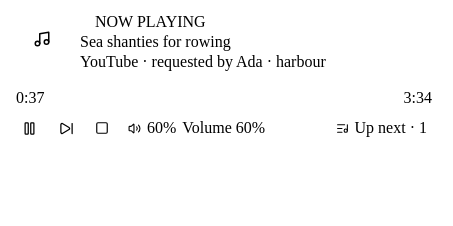
Test: NowPlaying › the queue toggle says how many are up next and opens the queue list (current track marked)
Step 1. Click the button "Up next · 1" → (381,128), box [327,114,436,142]
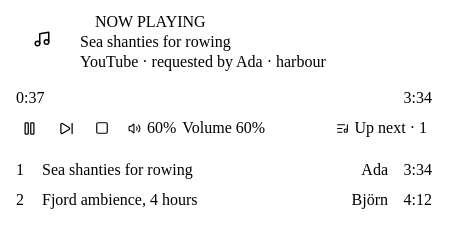
Result: the number of list items is 2 at [16,161,432,178]; [16,191,432,208]
Result: the list item "2 Fjord ambience, 4 hours Björn 4:12" is shown at [16,191,432,208]
Step 2. Click the button "Up next · 1" → (381,128), box [327,114,436,142]
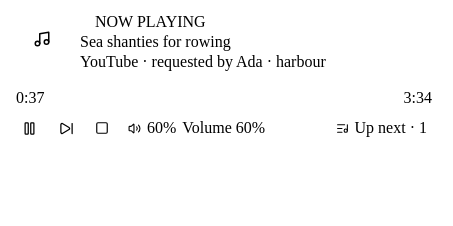
Result: the list "Queue" is gone
